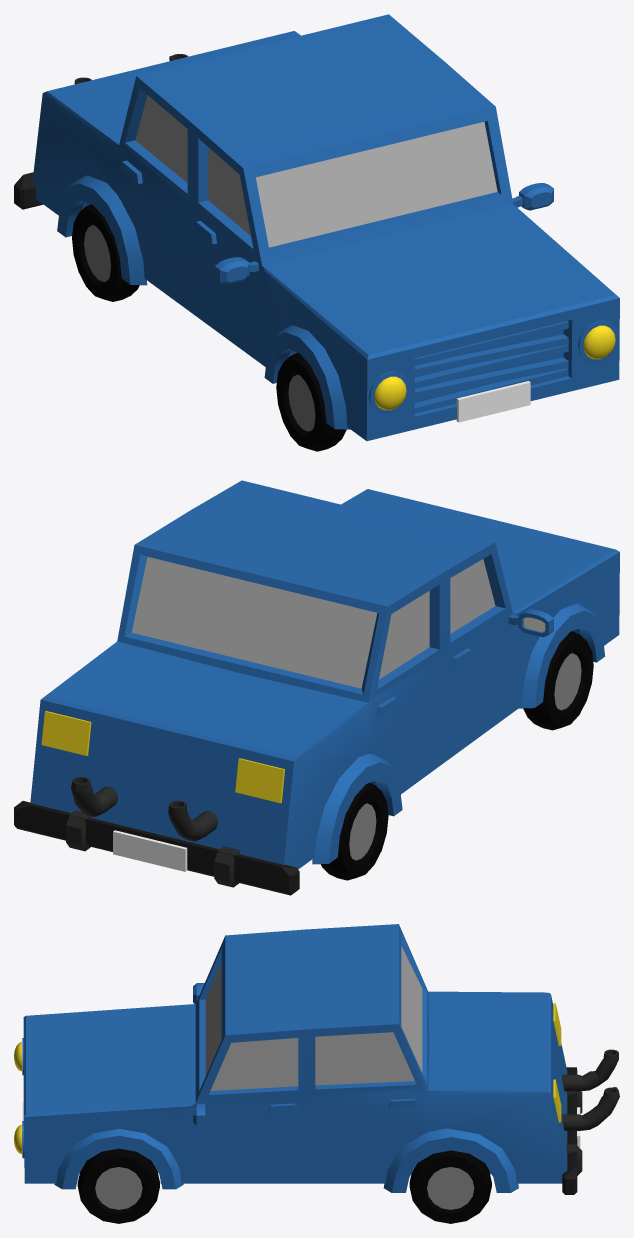
Rendered from Car1.fbx.
3 renders of one model, top to bottom at view 1: azimuth 30°, elevation 25°; view 2: azimuth 150°, elevation 25°; view 3: azimuth 270°, elevation 25°, orthographic. The views are drawn at different scales.
Visible parts, largest first — view 1: Car; view 2: Car; view 3: Car.
Boxes of the visible parts, box(x1,y1,x2,y2) form: Car: box(14, 14, 619, 451); Car: box(14, 480, 619, 895); Car: box(14, 924, 619, 1223).
Size of the model in its own units: 375 by 263 by 725.
